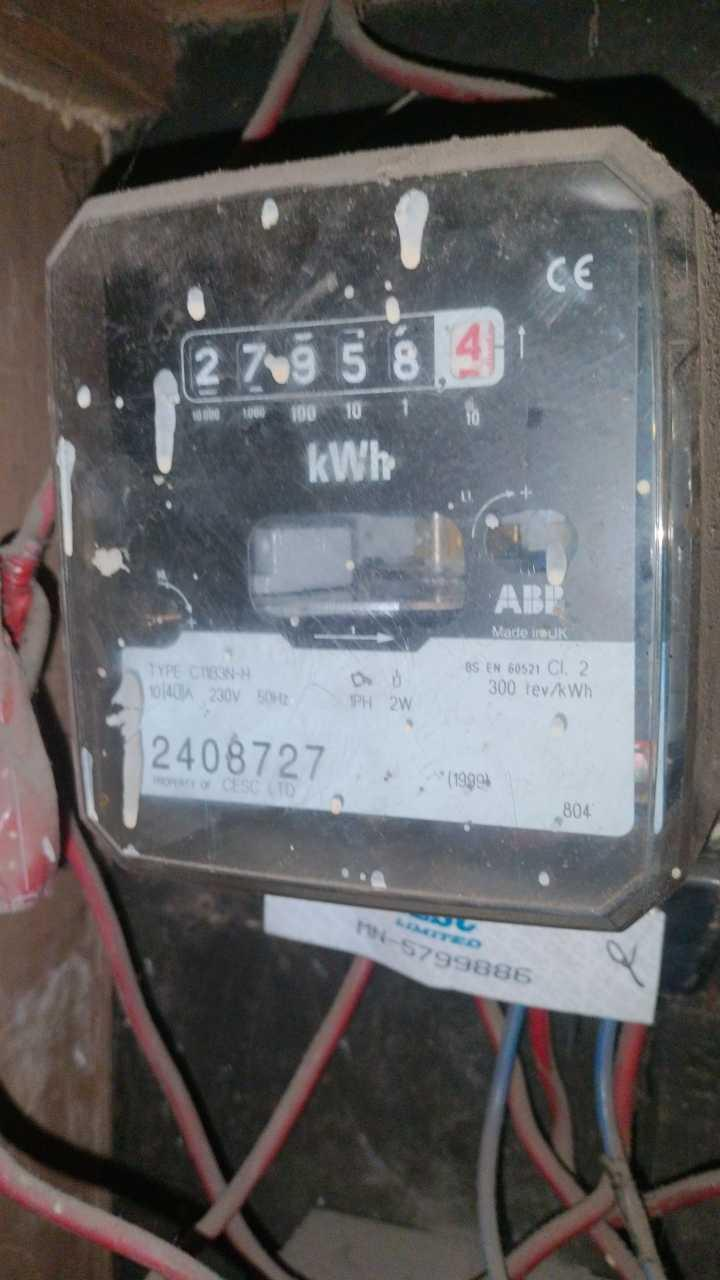meter_readings: (175, 322, 498, 392)
serial_number: (146, 728, 334, 776)
